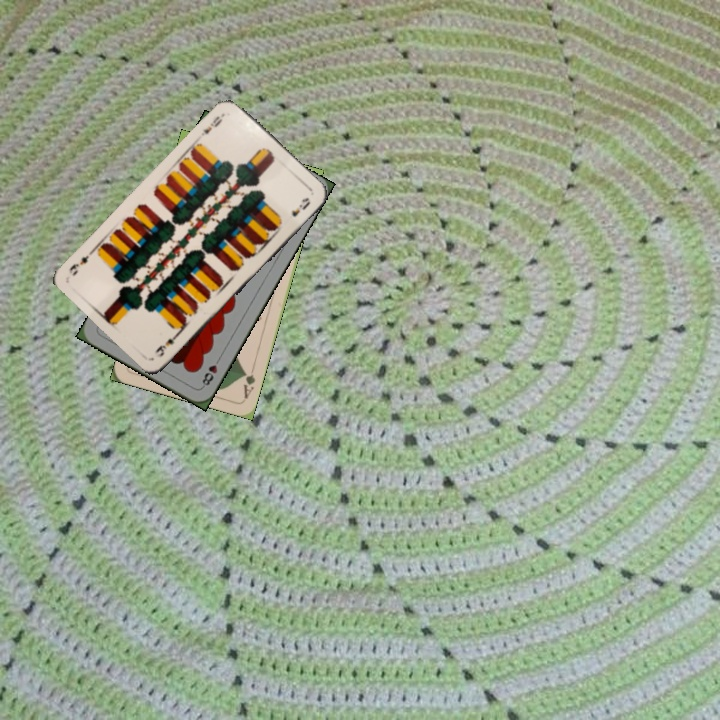E9: (151, 327, 183, 360), (197, 112, 225, 139)
GA: (239, 361, 258, 401)
H8: (198, 353, 223, 390)
